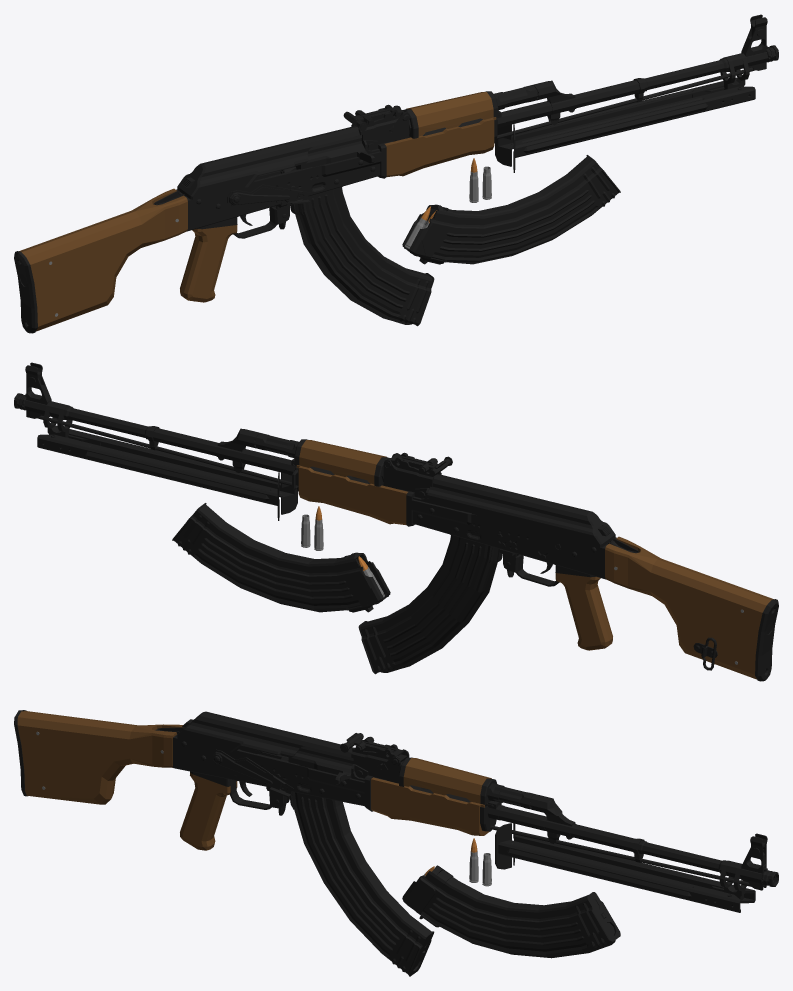
Rendered from rpk_7.62.glb.
The picture shows the model from 3 angles, top to bottom: view 1: azimuth 30°, elevation 25°; view 2: azimuth 150°, elevation 25°; view 3: azimuth 330°, elevation 25°; orthographic projection.
Parts seen in each view (by area): view 1: rpk762 stock_1, ak 40rnd steel mag_16, ak 40rnd empty steel mag_15, rpk762 receiver_3, rpk 76239 barrel_11, rpk762 handguard_7, rpk762 dust cover_9, rpk bipod right leg_20, rpk762 pistol grip_5, rpk bipod left leg_21, ak 76239 bolt carrier_10, rpk762 selector_2 (+2 smaller); view 2: rpk762 stock_1, ak 40rnd steel mag_16, ak 40rnd empty steel mag_15, rpk762 receiver_3, rpk 76239 barrel_11, rpk762 handguard_7, rpk762 dust cover_9, rpk bipod left leg_21, rpk762 pistol grip_5, rpk bipod right leg_20, rpk762 gas tube_8, rpk bipod base_18 (+1 smaller); view 3: ak 40rnd steel mag_16, rpk762 stock_1, ak 40rnd empty steel mag_15, rpk762 receiver_3, rpk 76239 barrel_11, rpk762 handguard_7, rpk bipod right leg_20, rpk762 dust cover_9, rpk762 pistol grip_5, rpk bipod left leg_21, ak 76239 bolt carrier_10, rpk762 selector_2 (+3 smaller).
Boxes of the visible parts, left/top/right/bottom form: rpk762 stock_1: left=14, top=188, right=187, bottom=333; ak 40rnd steel mag_16: left=402, top=155, right=620, bottom=264; ak 40rnd empty steel mag_15: left=290, top=186, right=434, bottom=326; rpk762 receiver_3: left=153, top=104, right=410, bottom=238; rpk 76239 barrel_11: left=384, top=14, right=768, bottom=143; rpk762 handguard_7: left=378, top=92, right=496, bottom=178; rpk762 dust cover_9: left=177, top=126, right=359, bottom=199; rpk bipod right leg_20: left=513, top=86, right=755, bottom=172; rpk762 pistol grip_5: left=180, top=217, right=237, bottom=302; rpk bipod left leg_21: left=495, top=77, right=737, bottom=166; ak 76239 bolt carrier_10: left=280, top=91, right=537, bottom=173; rpk762 selector_2: left=227, top=184, right=310, bottom=206; rpk762 stock_1: left=605, top=536, right=778, bottom=681; ak 40rnd steel mag_16: left=172, top=503, right=390, bottom=612; ak 40rnd empty steel mag_15: left=358, top=534, right=502, bottom=674; rpk762 receiver_3: left=383, top=452, right=639, bottom=586; rpk 76239 barrel_11: left=24, top=362, right=408, bottom=491; rpk762 handguard_7: left=296, top=440, right=414, bottom=526; rpk762 dust cover_9: left=427, top=474, right=615, bottom=547; rpk bipod left leg_21: left=37, top=434, right=279, bottom=520; rpk762 pistol grip_5: left=555, top=565, right=612, bottom=650; rpk bipod right leg_20: left=55, top=425, right=297, bottom=514; rpk762 gas tube_8: left=255, top=433, right=390, bottom=486; rpk bipod base_18: left=43, top=401, right=72, bottom=437; ak 40rnd steel mag_16: left=402, top=865, right=620, bottom=958; rpk762 stock_1: left=14, top=710, right=184, bottom=804; ak 40rnd empty steel mag_15: left=289, top=792, right=434, bottom=976; rpk762 receiver_3: left=155, top=719, right=409, bottom=809; rpk 76239 barrel_11: left=373, top=777, right=775, bottom=890; rpk762 handguard_7: left=364, top=758, right=491, bottom=835; rpk bipod right leg_20: left=495, top=823, right=740, bottom=912; rpk762 dust cover_9: left=177, top=711, right=355, bottom=757; rpk762 pistol grip_5: left=180, top=771, right=237, bottom=850; rpk bipod left leg_21: left=513, top=823, right=755, bottom=903; ak 76239 bolt carrier_10: left=280, top=746, right=531, bottom=802; rpk762 selector_2: left=212, top=749, right=293, bottom=797.
Bounding box in the file's own units: 10.21 × 2.87 × 0.6558.
